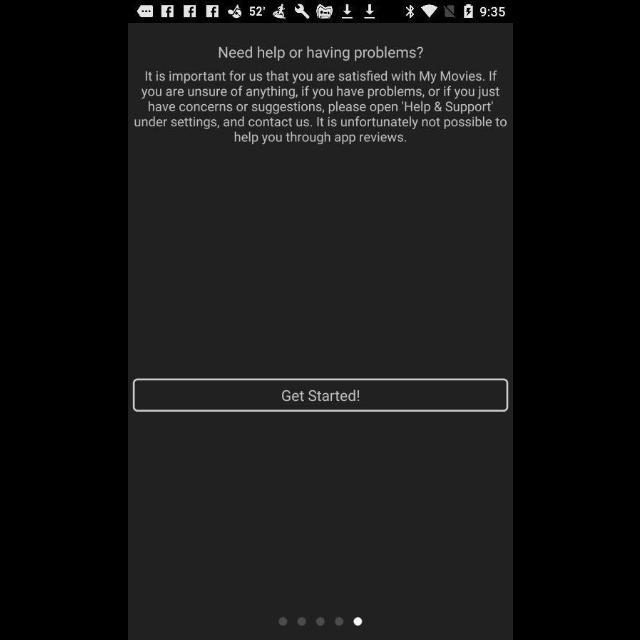pageindicator: (276, 616, 364, 628)
text: (134, 70, 506, 146), (218, 46, 422, 62)
textbutton: (132, 378, 508, 412)
uppertaskbar: (128, 1, 512, 23)
